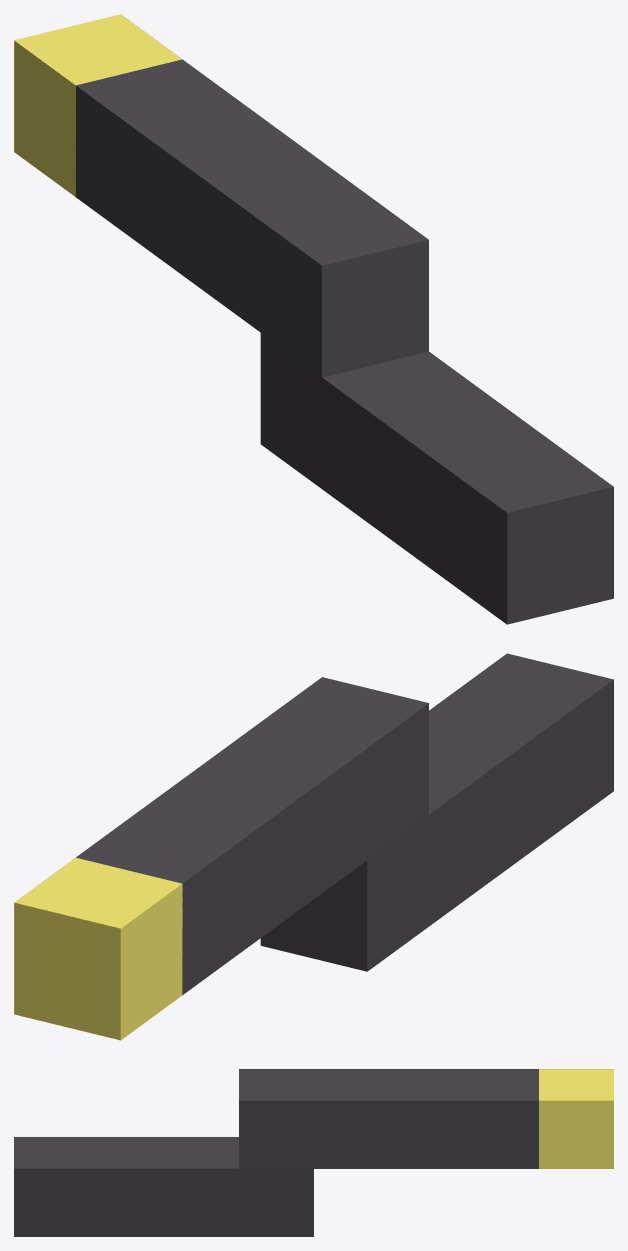
The model's file is Samurai Weapon .obj.
3 views of the same model, one above another, from view 1: azimuth 30°, elevation 25°; view 2: azimuth 150°, elevation 25°; view 3: azimuth 270°, elevation 25° (orthographic). The views are drawn at different scales.
Visible parts, largest first — view 1: Samurai Weapon; view 2: Samurai Weapon; view 3: Samurai Weapon.
Part boxes in pixels (x1=…): Samurai Weapon: x1=14, y1=14, x2=613, y2=624; Samurai Weapon: x1=14, y1=653, x2=613, y2=1040; Samurai Weapon: x1=14, y1=1069, x2=613, y2=1236.
Bounding box in the file's own units: 1 × 2 × 8.
1 material, 1 textured.
